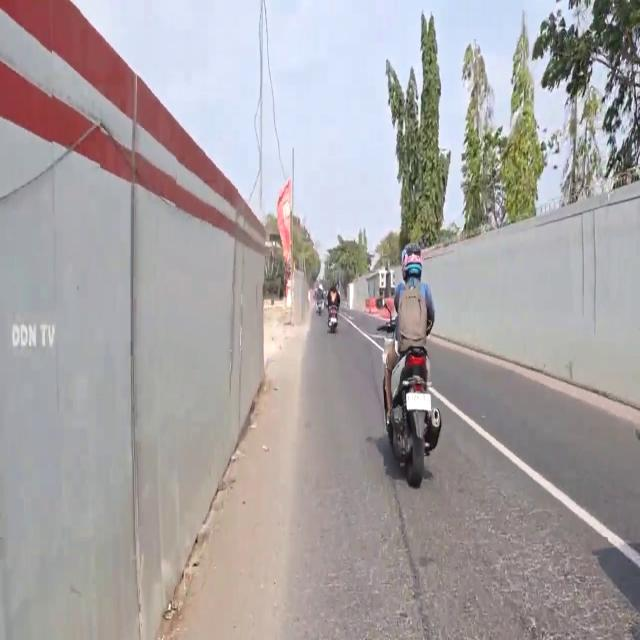WithHelmet: (384, 243, 436, 429)
